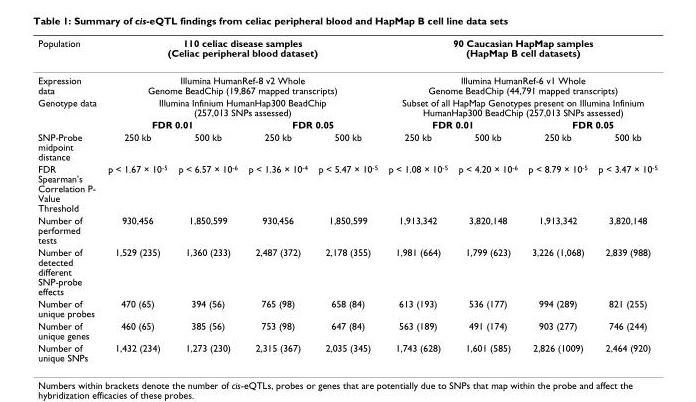table: (37, 37, 656, 362)
table column: (101, 37, 172, 362), (172, 37, 242, 362), (242, 37, 312, 362), (312, 37, 382, 362), (382, 37, 452, 362), (452, 37, 522, 362), (522, 37, 592, 362), (37, 37, 101, 362), (592, 37, 656, 362)
table column header: (37, 37, 656, 66)
table row: (37, 245, 656, 297), (37, 162, 656, 213), (37, 130, 656, 162), (37, 213, 656, 245), (37, 66, 656, 96), (37, 37, 656, 66), (37, 96, 656, 118), (37, 297, 656, 319), (37, 319, 656, 341), (37, 341, 656, 362), (37, 118, 656, 130)
table spanning cell: (101, 66, 382, 96), (382, 66, 656, 96), (101, 37, 382, 66), (382, 37, 656, 66), (101, 96, 382, 118), (382, 96, 656, 118), (37, 96, 101, 130), (101, 118, 242, 130), (242, 118, 382, 130), (382, 118, 522, 130), (522, 118, 656, 130)
